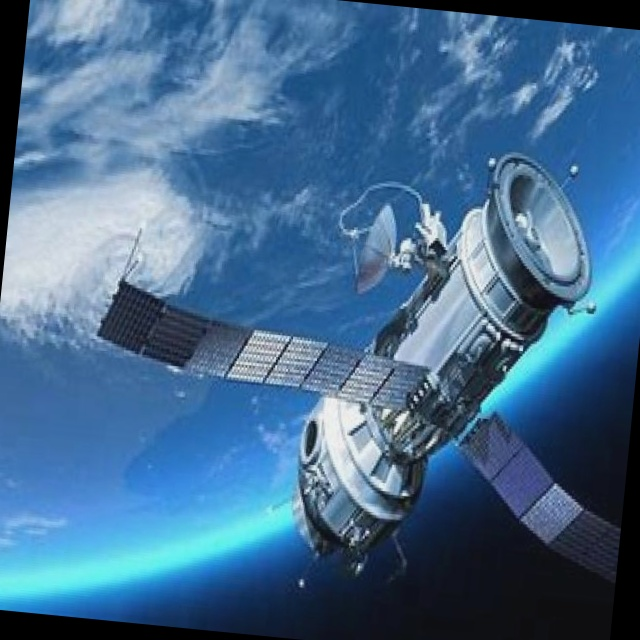satellite: (76, 105, 640, 613)
